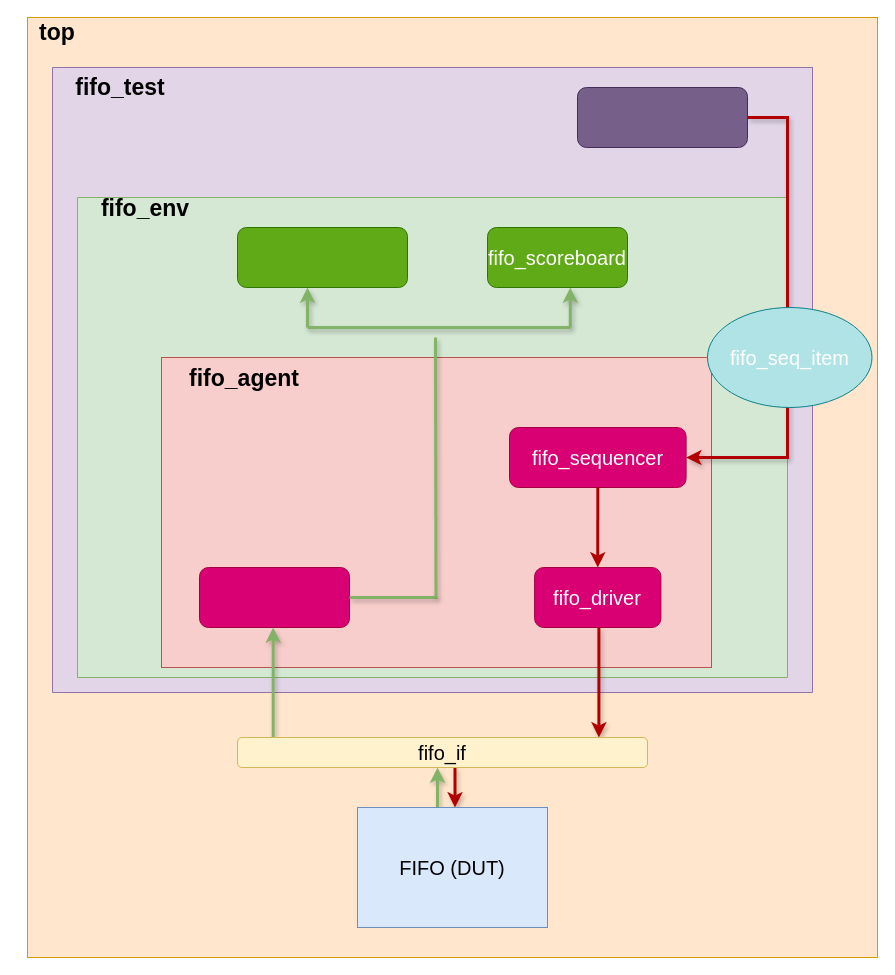
The diagram is 895 pixels wide and 975 high, and some of its shapes have lost their labels. Here are the shapes that lost their labels. From the top down, the centre of each, then its label:
the point at 662,117: fifo_sequence
the point at 322,257: fifo_coverage
the point at 274,597: fifo_monitor
